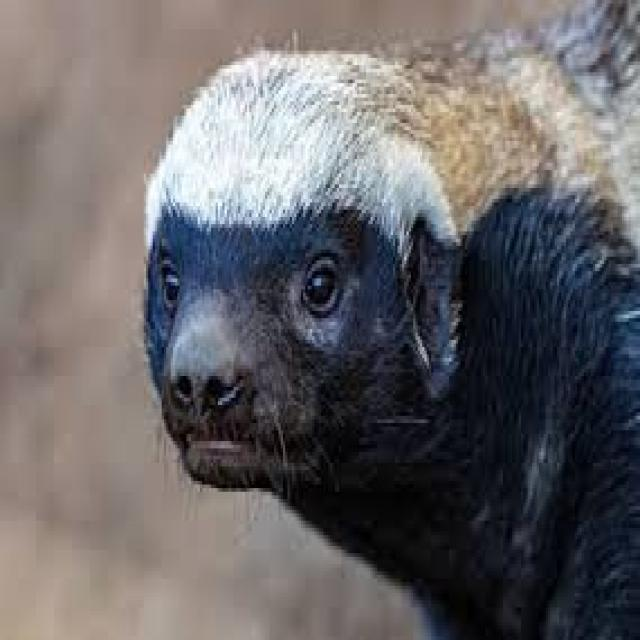Badger: (148, 11, 640, 640)
